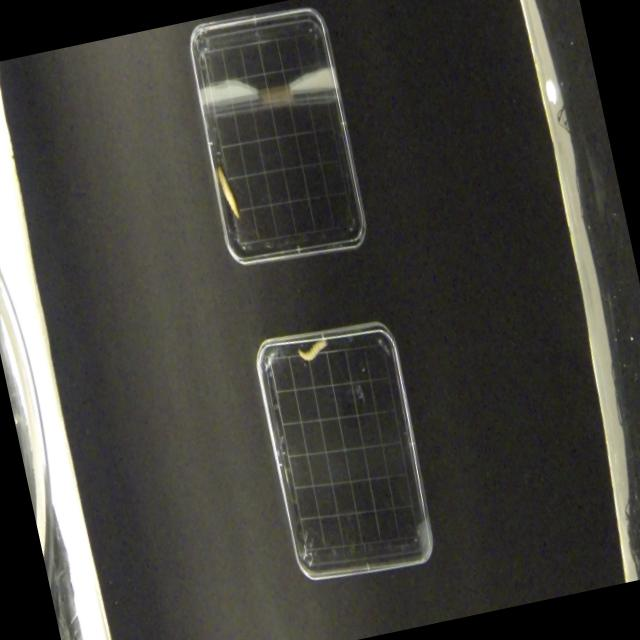larva: (218, 167, 240, 218), (296, 338, 332, 363)
